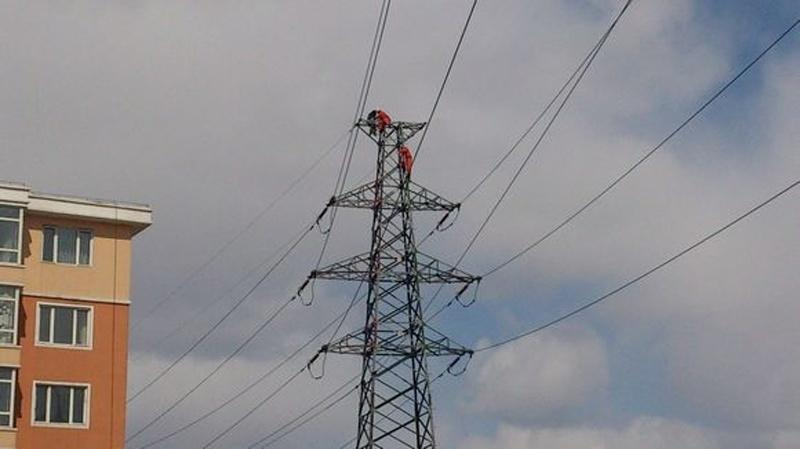power_tower: (303, 111, 490, 444)
